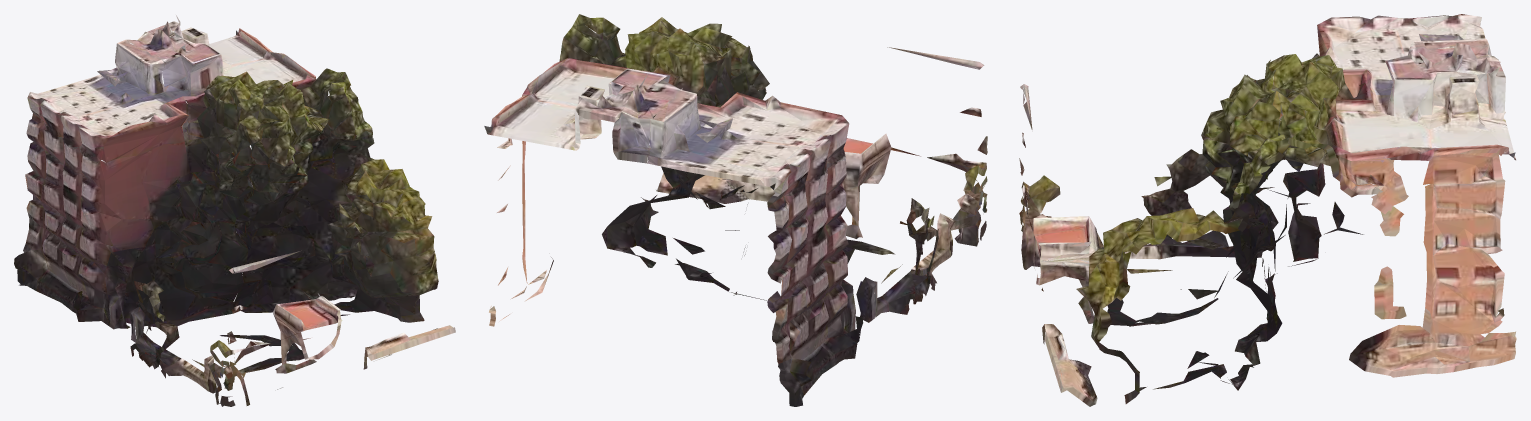
3 renders of one model, left to right at view 1: azimuth 30°, elevation 25°; view 2: azimuth 150°, elevation 25°; view 3: azimuth 270°, elevation 25°, orthographic. The views are drawn at different scales.
Parts seen in each view (by area): view 1: Mesh_0; view 2: Mesh_0; view 3: Mesh_0.
Part boxes in pixels (x1=…): Mesh_0: x1=14, y1=15, x2=455, y2=406; Mesh_0: x1=484, y1=14, x2=987, y2=406; Mesh_0: x1=1019, y1=14, x2=1516, y2=406.
Bounding box in the file's own units: 33.19 × 26.2 × 41.53.
Materials: 1 (1 with a texture image).
